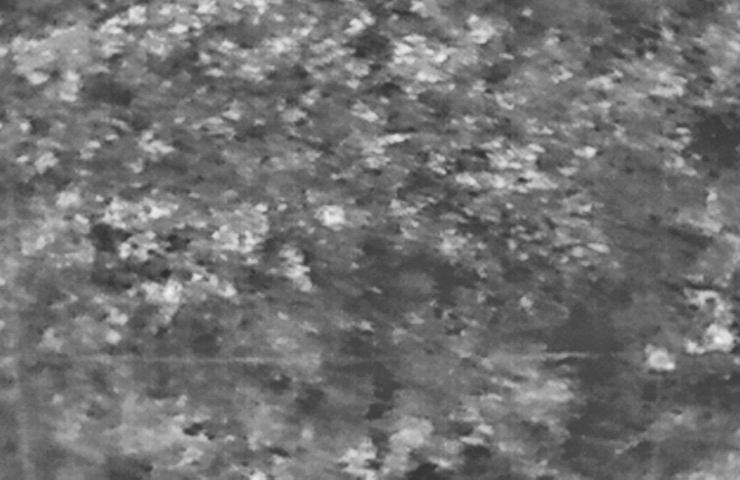landmines: (321, 203, 350, 230)
